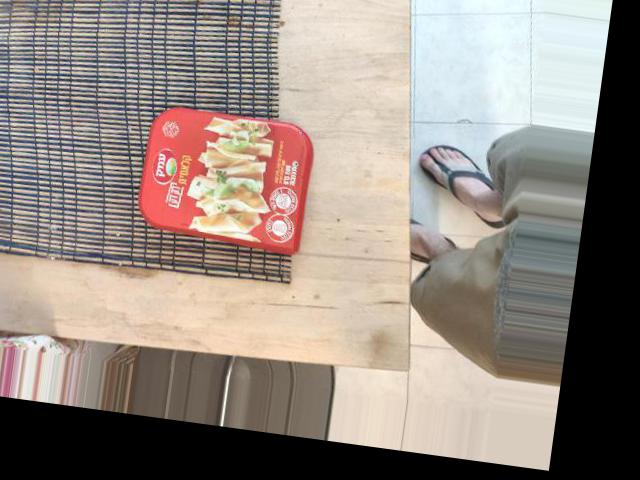cheese: (108, 10, 271, 180)
